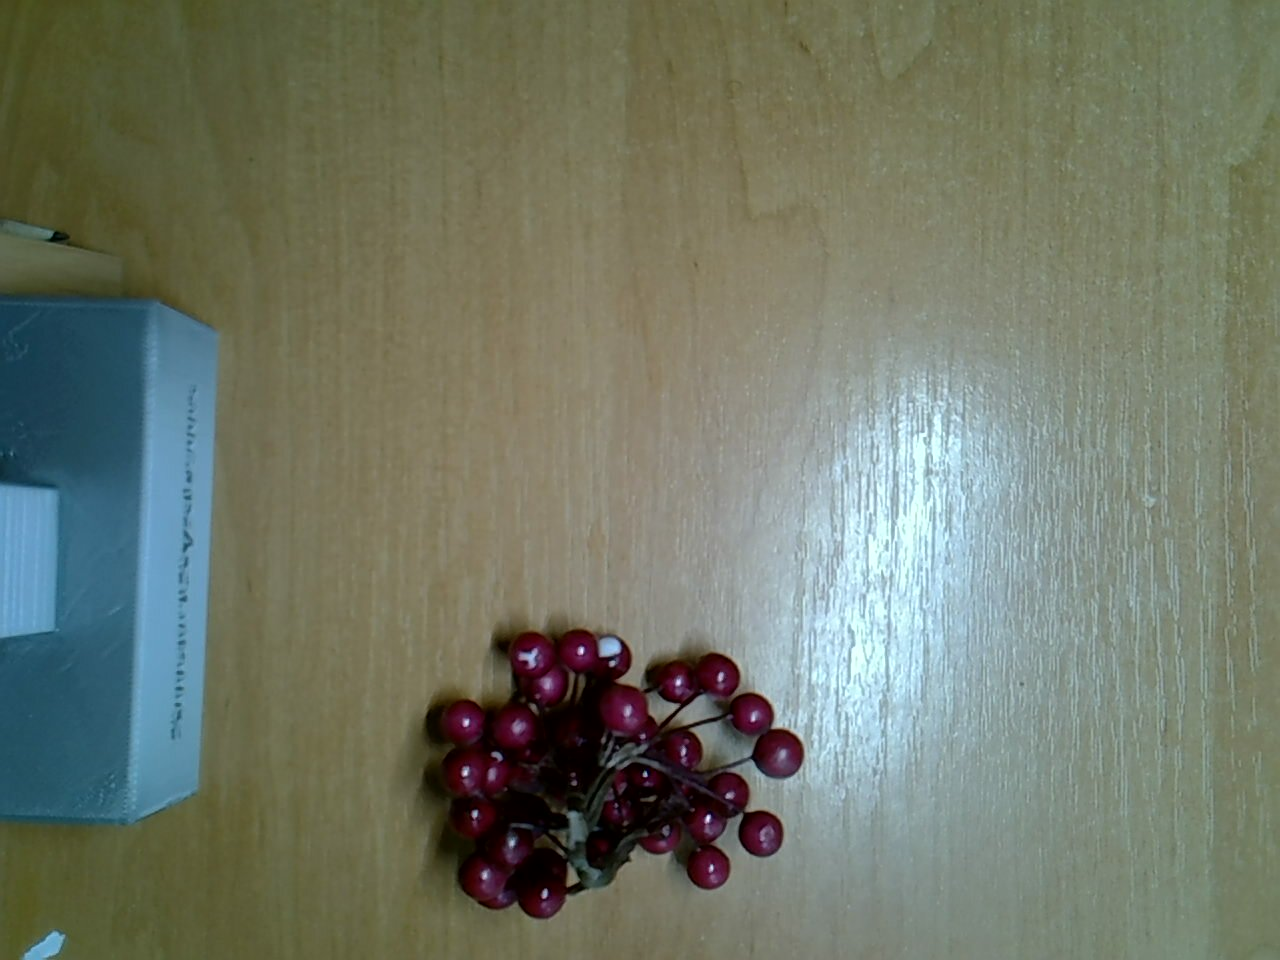berries: (407, 607, 810, 925)
